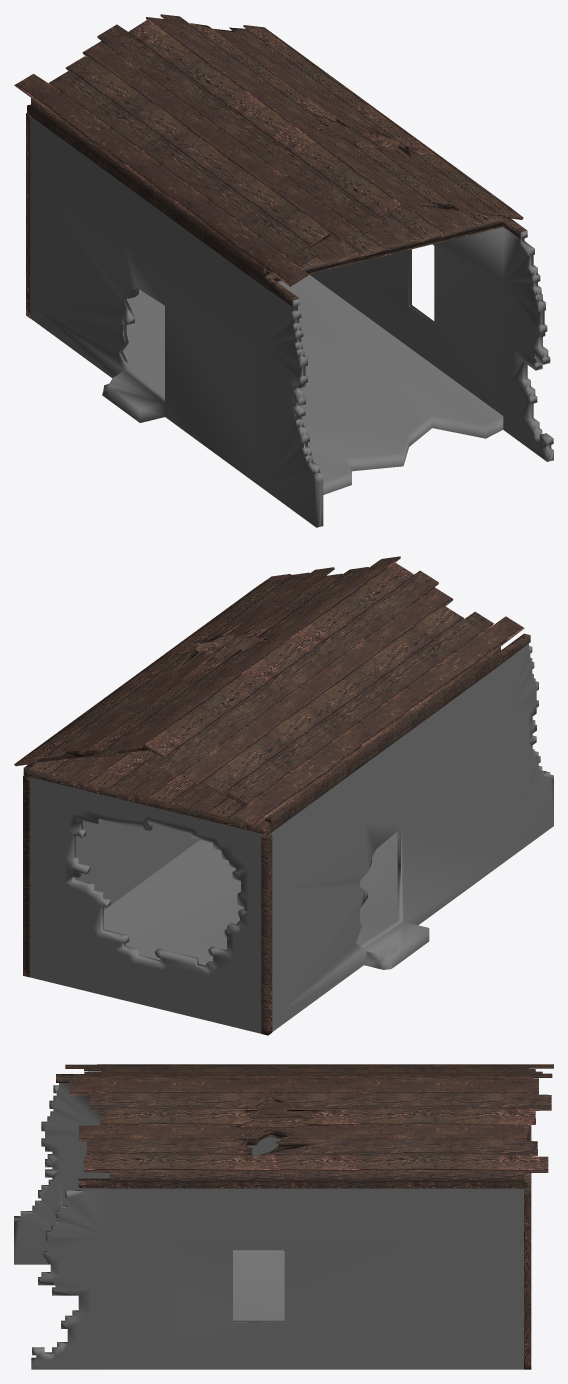
File: Ruin10_lod0.fbx
3 renders of one model, top to bottom at view 1: azimuth 30°, elevation 25°; view 2: azimuth 150°, elevation 25°; view 3: azimuth 270°, elevation 25°, orthographic. The views are drawn at different scales.
Parts seen in each view (by area): view 1: Default_Layer; view 2: Default_Layer; view 3: Default_Layer.
Boxes of the visible parts, <box> form: Default_Layer: <box>14,14,553,527</box>; Default_Layer: <box>14,556,553,1035</box>; Default_Layer: <box>14,1064,553,1369</box>.
Bounding box in the file's own units: 662 × 616 × 1272.
